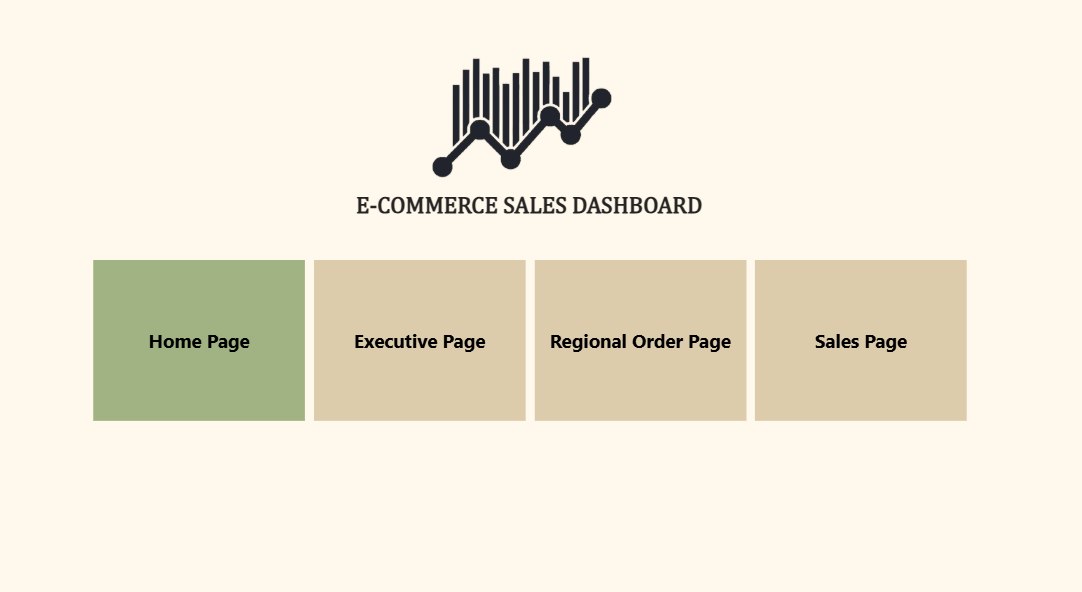

What the dashboard file says about the page in this screenshot:
{"tool":"powerbi","page":{"name":"Home Page","canvas":[1280,720],"ordinal":0},"visuals":[{"type":"image","box":[447.3,75,326.1,138.5],"z":0},{"type":"textbox","box":[392.4,226.5,448.7,47.6],"z":1000},{"type":"image","box":[348.4,317.2,291.6,129.4],"z":2000},{"type":"image","box":[630,317.2,223.3,129.4],"z":3000},{"type":"image","box":[853.3,317.2,278.8,130.8],"z":4000},{"type":"pageNavigator","box":[120.9,307.2,994.1,183.5],"z":5000}]}

Visuals, with their boxes in screenshot pixels (x1, y1, x2, y2), scaled from the page's 1280x720 canvas onto the 1082x592 screenshot:
image: box(378, 62, 654, 176)
textbox: box(332, 186, 711, 225)
image: box(295, 261, 541, 367)
image: box(533, 261, 721, 367)
image: box(721, 261, 957, 368)
pageNavigator: box(102, 253, 943, 403)
